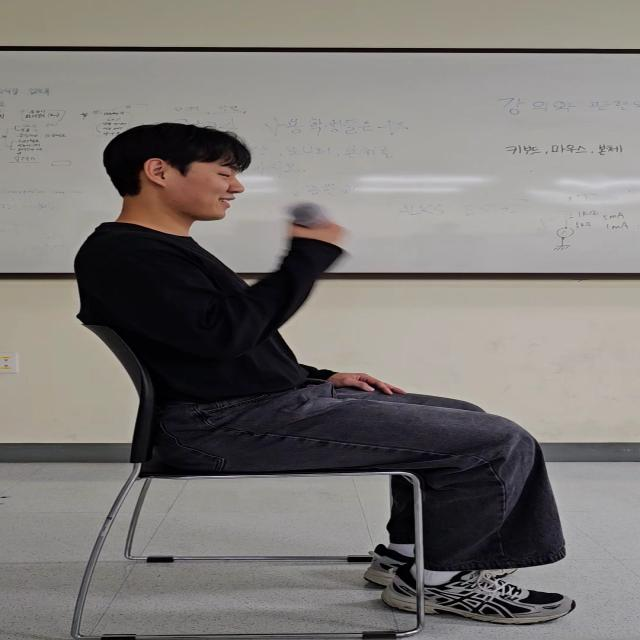curl: (229, 236, 322, 345), (134, 262, 225, 344)
